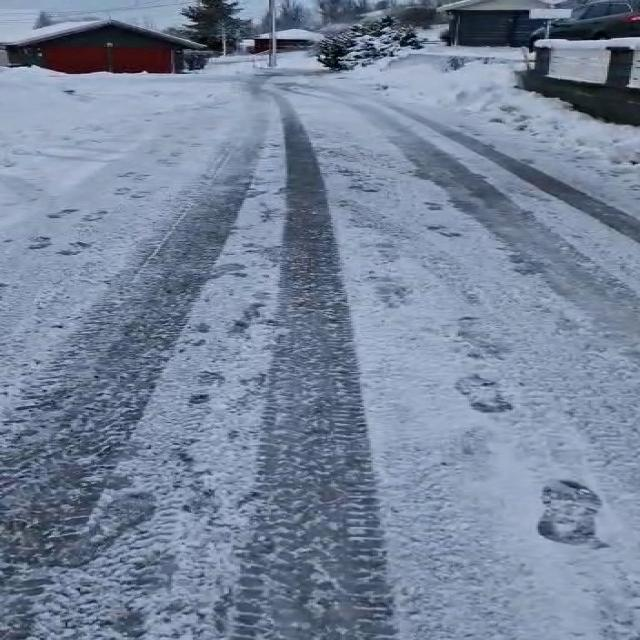path: (0, 70, 640, 640)
